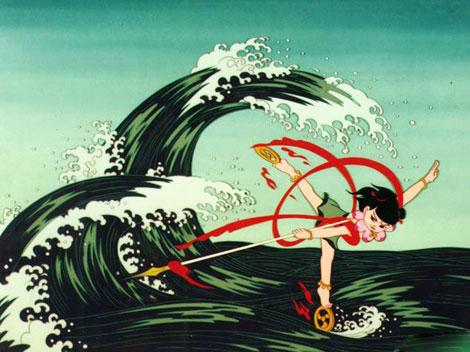person: (274, 154, 442, 309)
